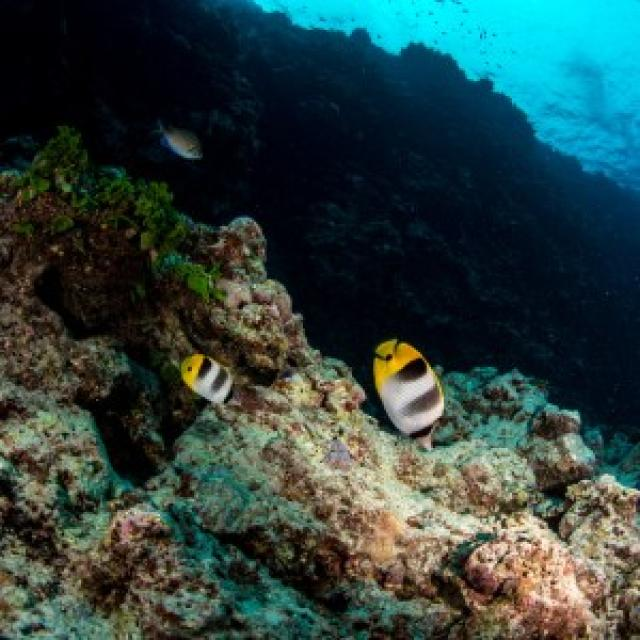Bleached: (163, 362, 447, 607), (1, 389, 118, 639)
Healthy: (1, 129, 219, 327), (180, 219, 306, 383), (84, 504, 223, 639), (458, 517, 603, 639), (1, 276, 131, 406), (560, 475, 639, 620), (436, 443, 534, 515), (519, 404, 594, 490)
